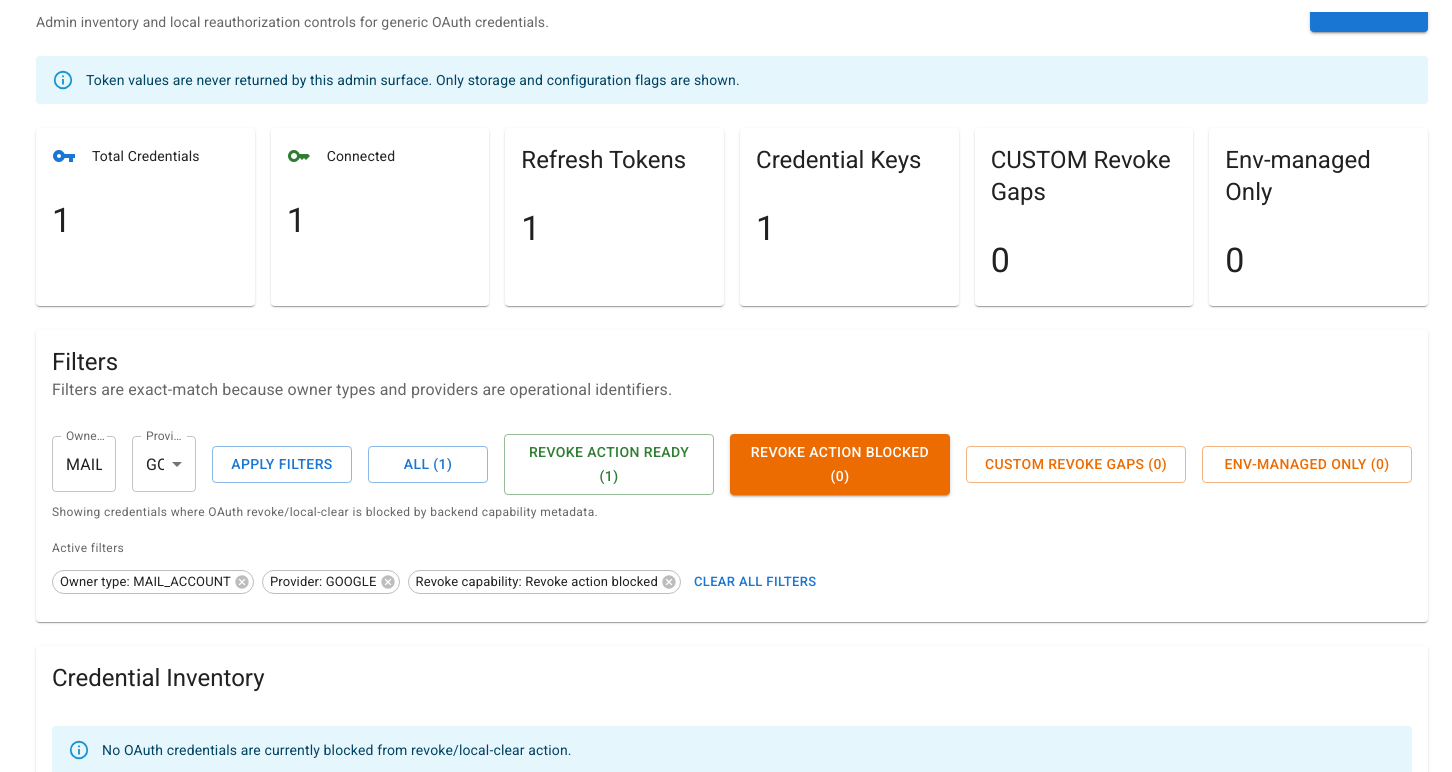
Test: shows active filter chips from URL state and clears all admin filters
The image size is (1452, 772).
(page scrolled)
Expected: the text "No OAuth credentials are currently blocked from revoke/local-clear action." is shown, left=102, top=742, right=572, bottom=758
Expected: the text "Active filters" is shown, left=52, top=541, right=124, bottom=555
Step 1. Click the button "Clear all filters" → (755, 582), box left=689, top=567, right=822, bottom=598
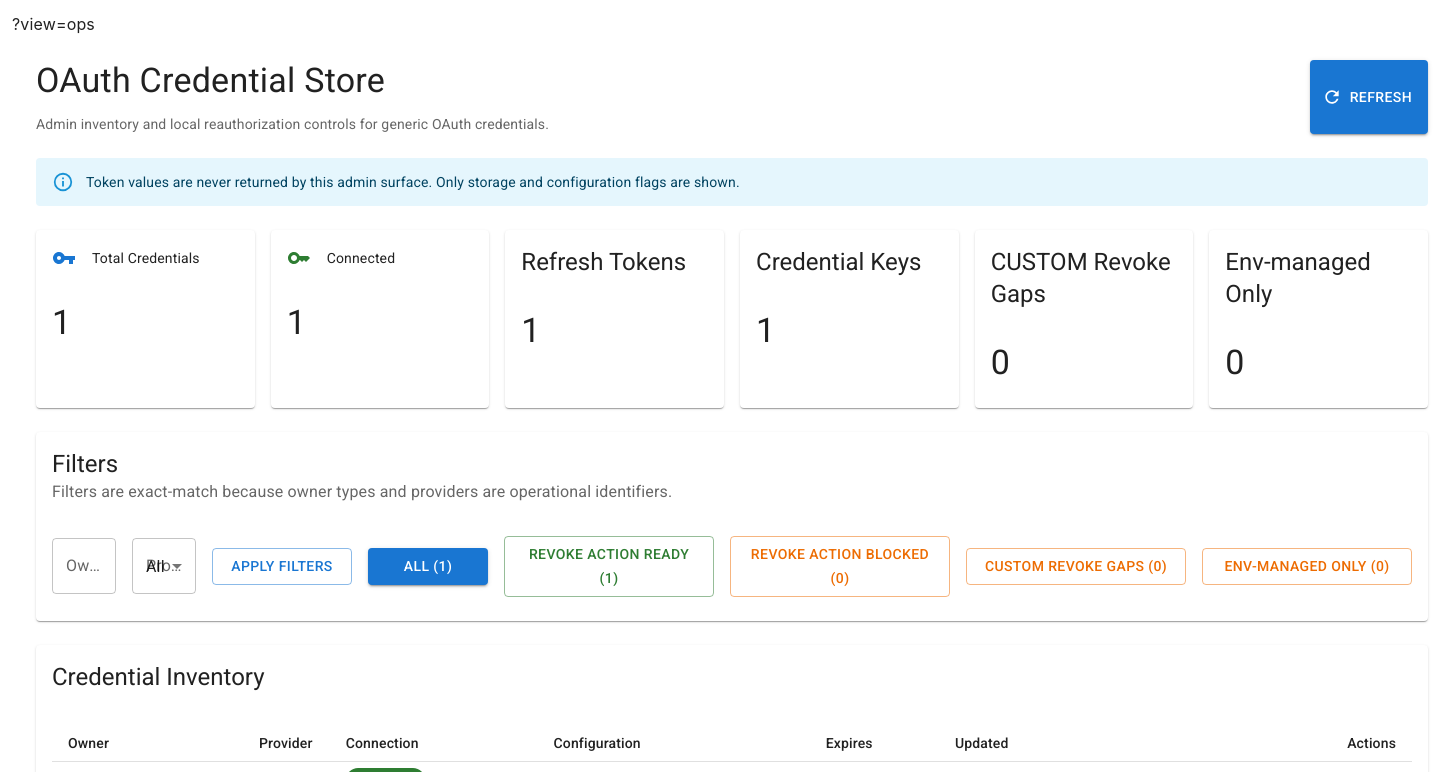
Expected: the text "Active filters" is gone
Expected: the text with test id "location-search" reads "?view=ops", left=12, top=14, right=95, bottom=34
